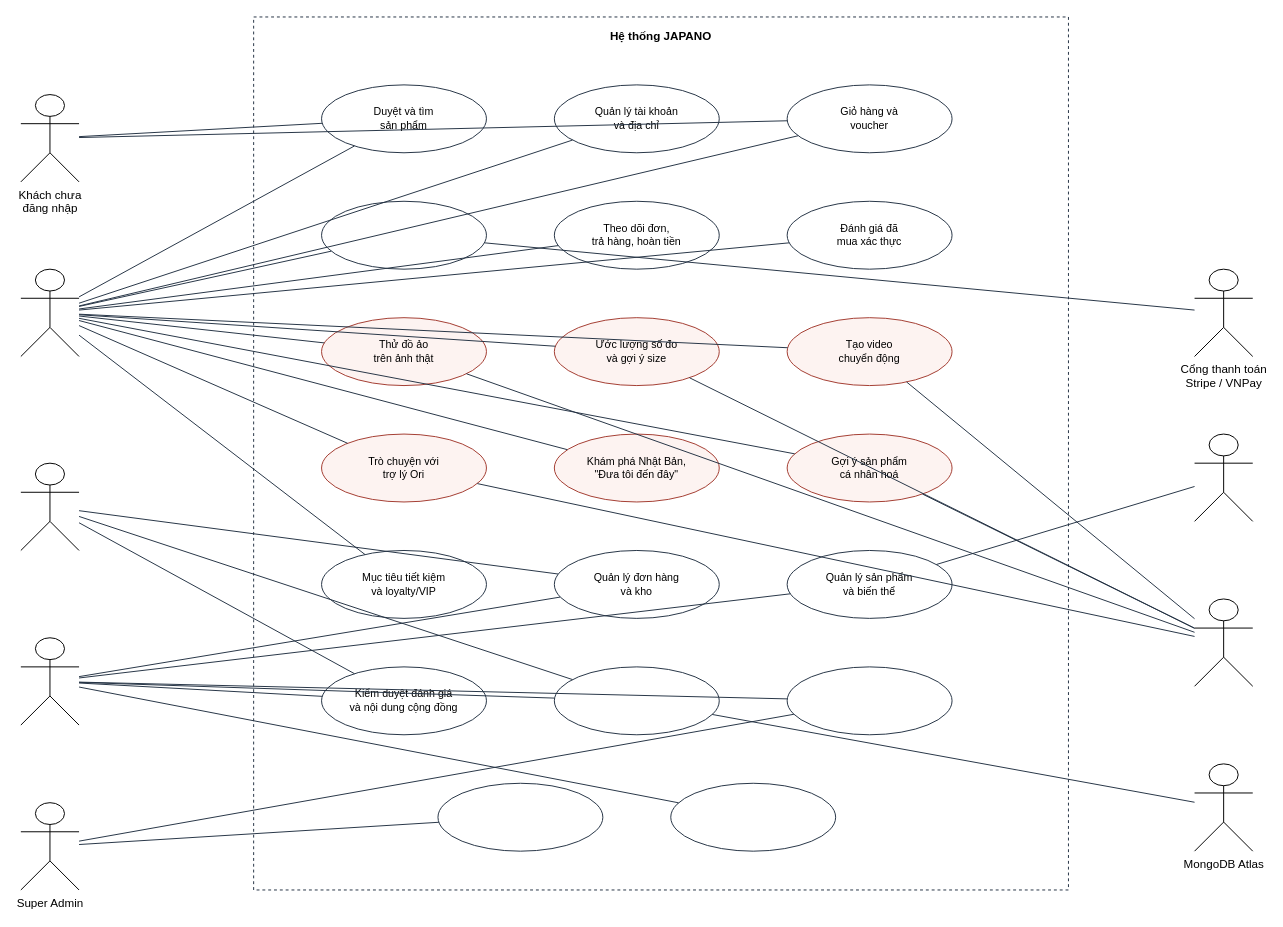
Image size: 1283x927. Some labels were removed from this diagram. The shapes that lost their labels are listed below. From the top down, each one's box as (x1, y1, x2, y2) in pixels, then its label:
(321, 200, 486, 269): Đặt hàng và thanh toán
(20, 268, 79, 356): Khách hàng
(1194, 433, 1253, 521): Cloudinary
(20, 462, 79, 550): Nhân viên (staff)
(1194, 598, 1253, 686): Dịch vụ AI cục bộ
(20, 637, 79, 725): Quản trị viên (admin)
(553, 666, 719, 735): Xem dashboard, phân tích, dự báo
(786, 666, 952, 735): Đối soát thanh toán, hoàn tiền
(437, 782, 603, 851): Quản lý người dùng và phân quyền
(670, 782, 836, 851): Theo dõi sức khoẻ dịch vụ và model
